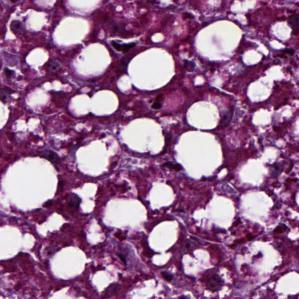steatosis: (126, 44, 178, 91), (48, 245, 89, 278)
